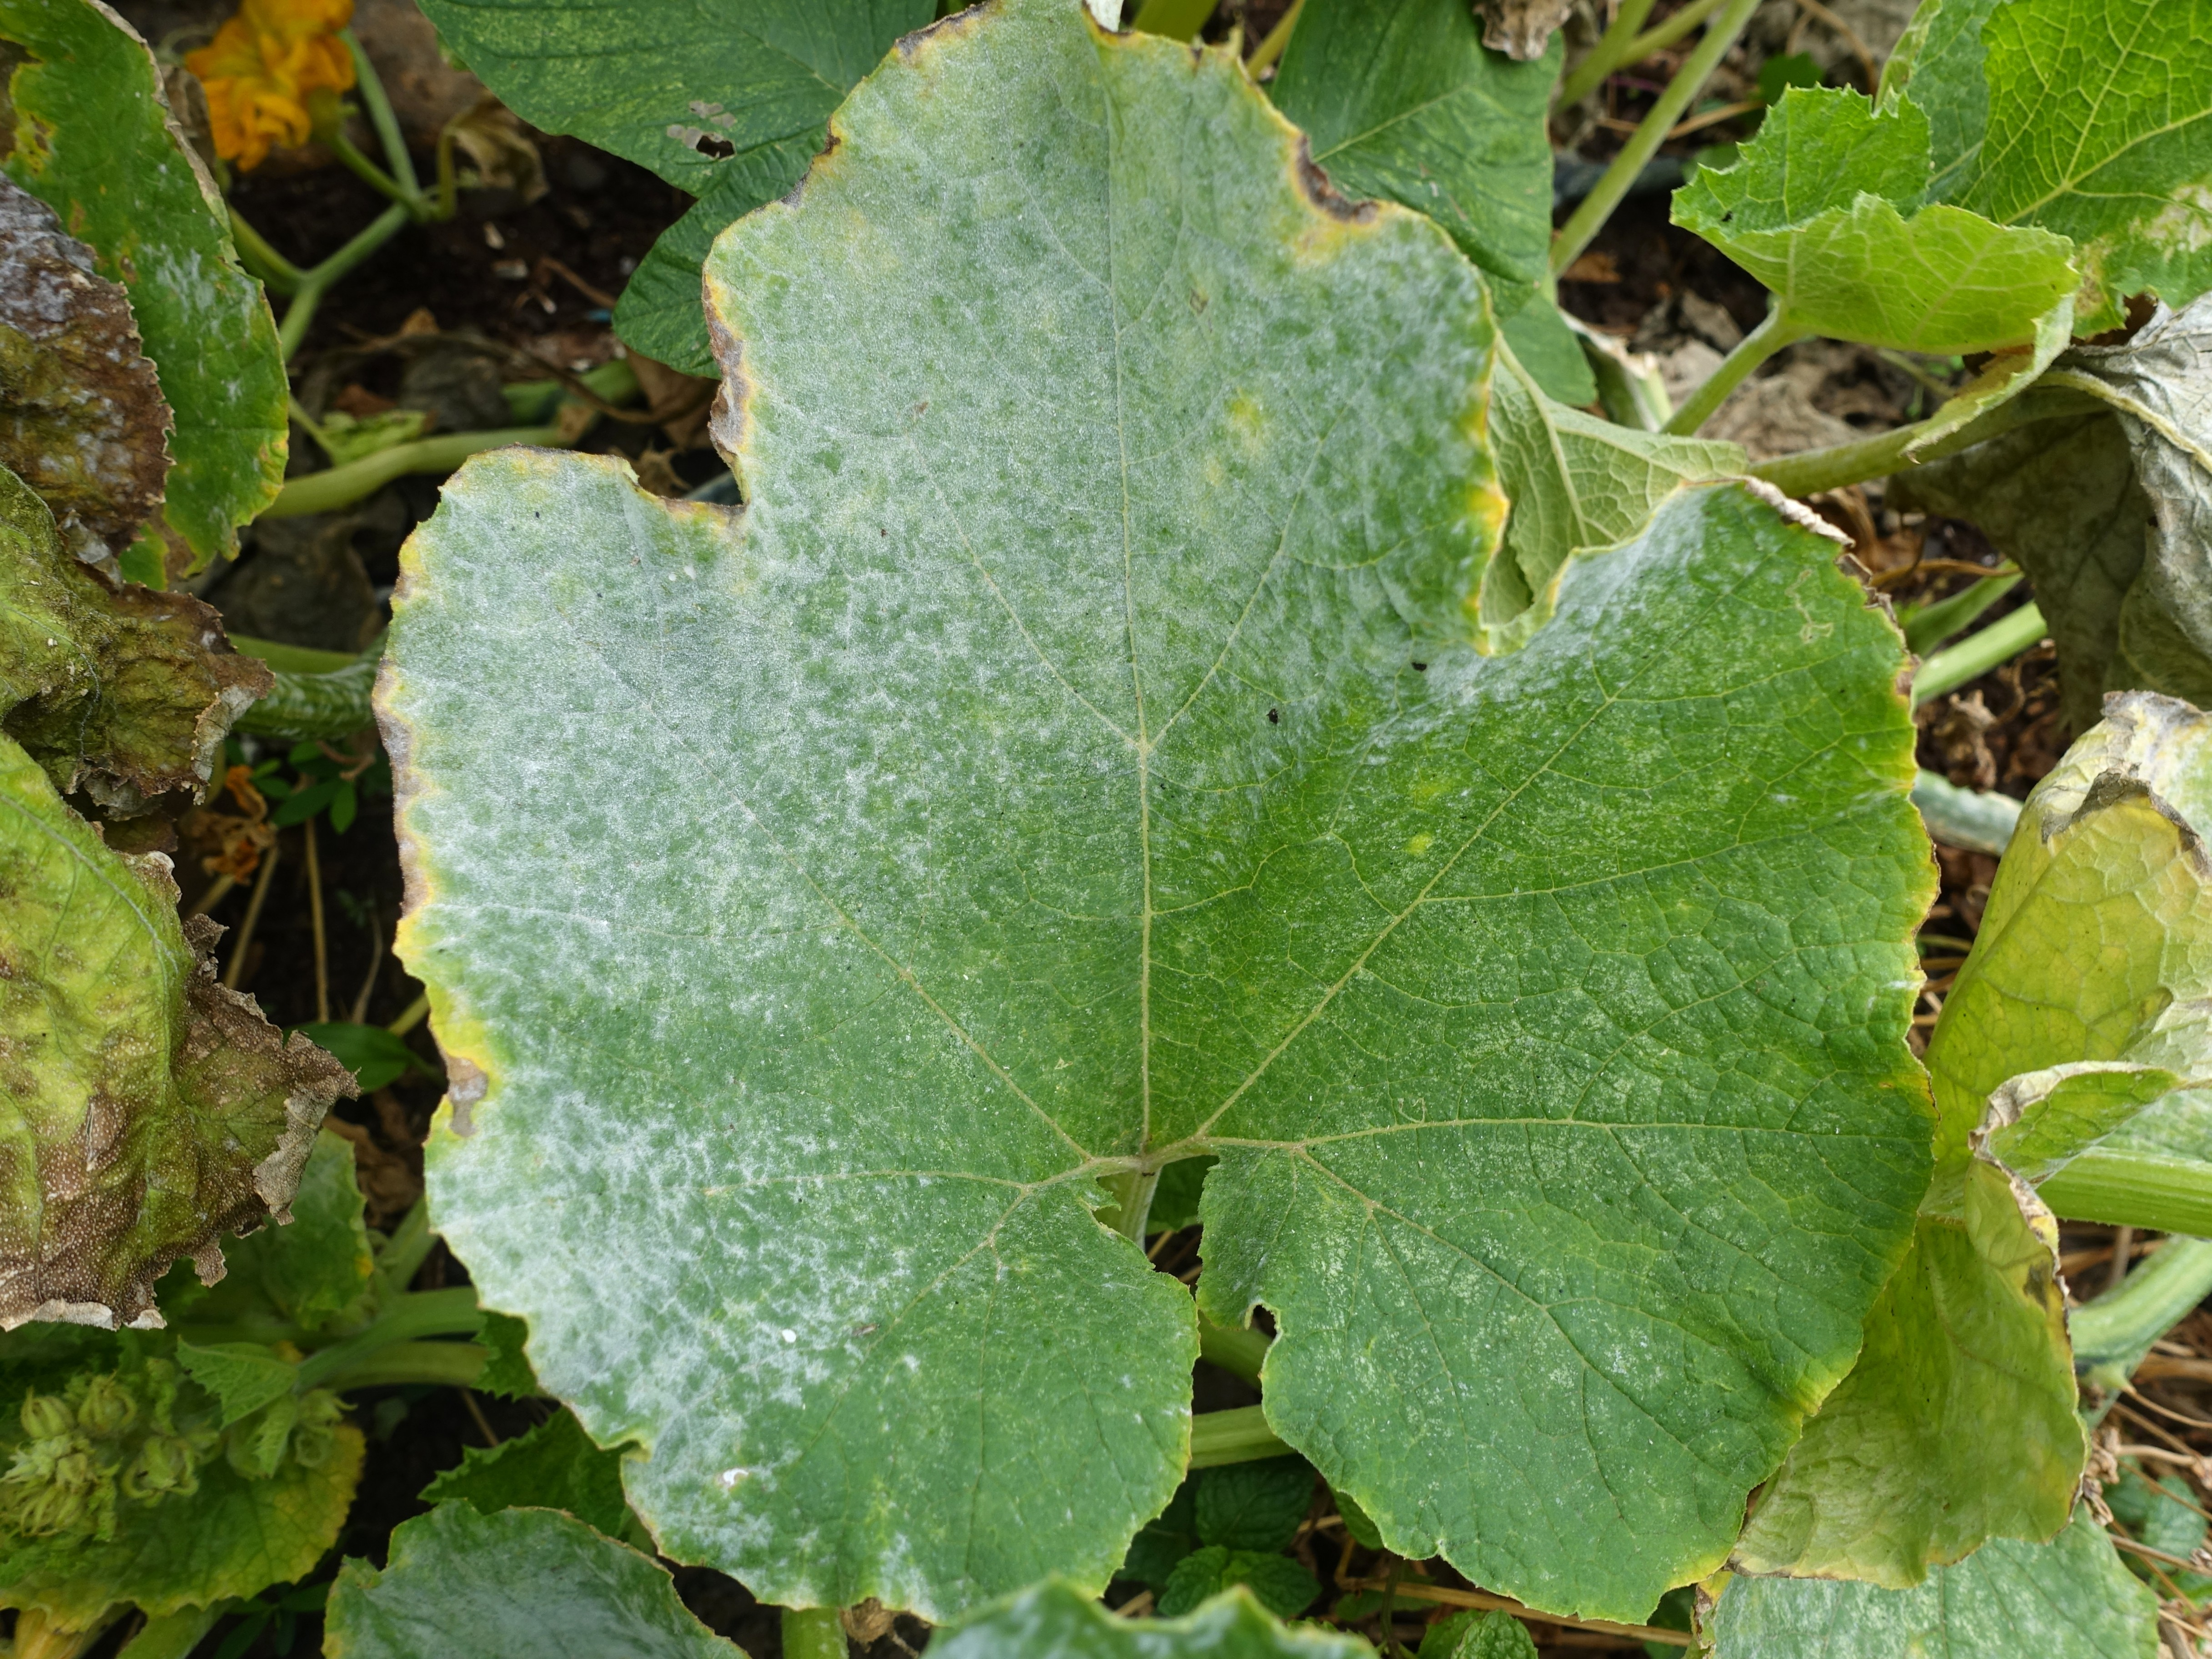Cucumber_PowderyMildew: (352, 87, 1933, 1622)
